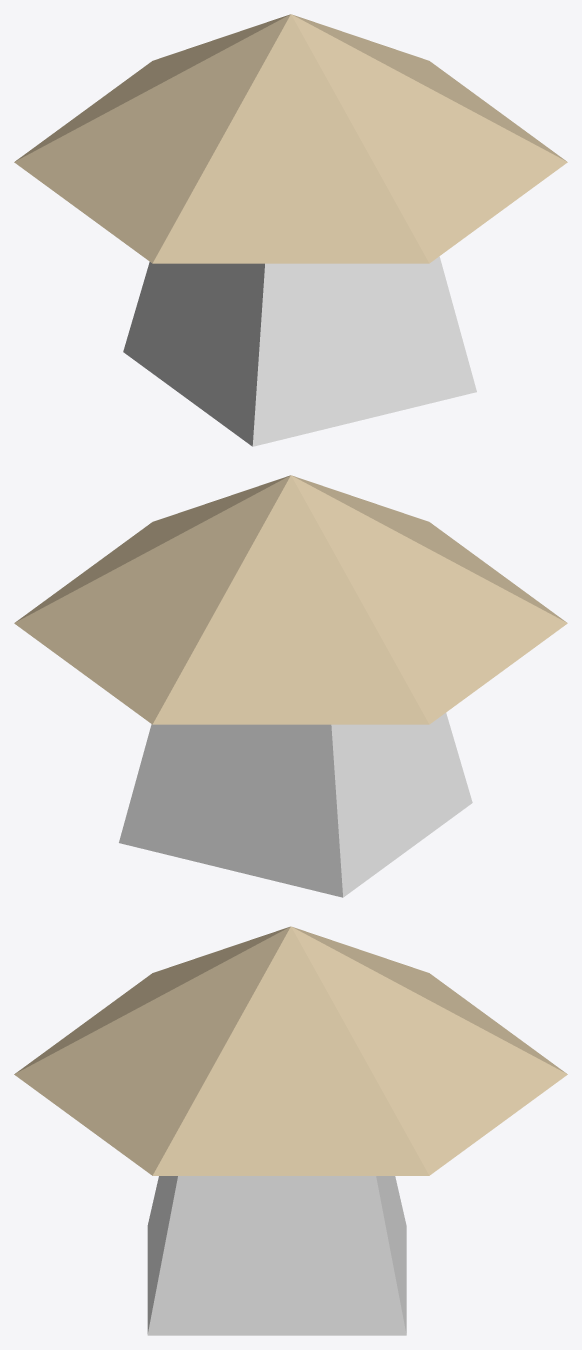
The model's file is mushroom_brown_01.gltf.
3 views of the same model, one above another, from view 1: azimuth 30°, elevation 25°; view 2: azimuth 150°, elevation 25°; view 3: azimuth 270°, elevation 25° (orthographic).
Visible parts, largest first — view 1: Node2, Node19, Node1, Node3, Node16, Node4, Node12; view 2: Node12, Node15, Node1, Node13, Node16, Node2, Node4; view 3: Node17, Node4, Node3, Node13, Node2, Node12, Node19, Node15.
Part boxes in pixels (x1=…): Node2: x1=152, y1=14, x2=429, y2=263; Node19: x1=252, y1=256, x2=476, y2=446; Node1: x1=14, y1=14, x2=290, y2=263; Node3: x1=291, y1=14, x2=567, y2=263; Node16: x1=123, y1=262, x2=264, y2=446; Node4: x1=292, y1=14, x2=566, y2=161; Node12: x1=15, y1=14, x2=289, y2=161; Node12: x1=152, y1=476, x2=429, y2=724; Node15: x1=119, y1=724, x2=342, y2=897; Node1: x1=291, y1=475, x2=567, y2=724; Node13: x1=14, y1=475, x2=290, y2=724; Node16: x1=331, y1=713, x2=472, y2=897; Node2: x1=292, y1=475, x2=566, y2=622; Node4: x1=15, y1=475, x2=289, y2=622; Node17: x1=147, y1=1176, x2=406, y2=1335; Node4: x1=152, y1=927, x2=429, y2=1175; Node3: x1=14, y1=926, x2=290, y2=1175; Node13: x1=291, y1=926, x2=567, y2=1175; Node2: x1=15, y1=927, x2=289, y2=1073; Node12: x1=292, y1=927, x2=566, y2=1073; Node19: x1=147, y1=1176, x2=177, y2=1333; Node15: x1=376, y1=1176, x2=406, y2=1334.
Bounding box in the file's own units: 0.4349 × 0.3535 × 0.5022.
